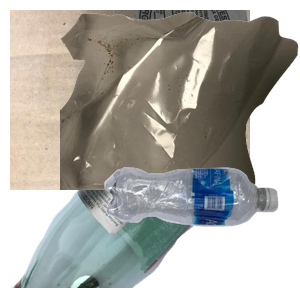cardboard: (10, 10, 250, 190)
glass: (10, 120, 224, 300)
plastic: (102, 165, 300, 300)
trash: (60, 10, 300, 190)
